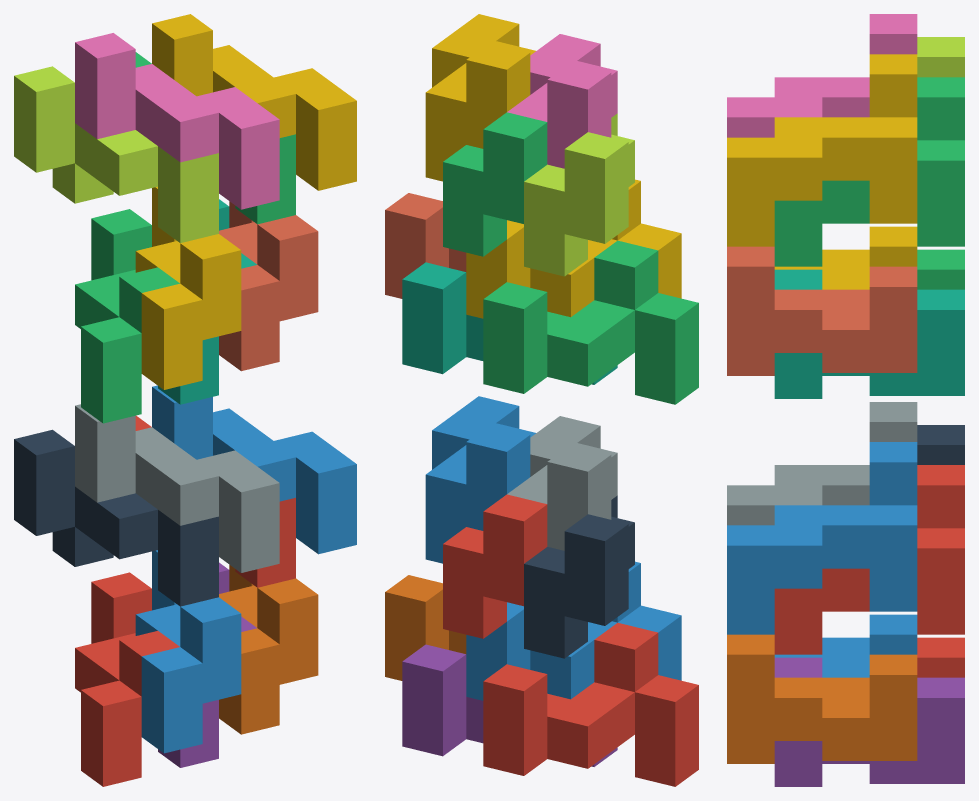
The model's file is tiling.obj.
3 views of the same model, side by side, from view 1: azimuth 30°, elevation 25°; view 2: azimuth 150°, elevation 25°; view 3: azimuth 270°, elevation 25° (orthographic). The views are drawn at different scales.
Visible parts, largest first — view 1: copy_2_domain_4, copy_2_domain_2, copy_2_domain_1, copy_2_domain_3, copy_2_domain_8, copy_2_domain_6, copy_1_domain_1, copy_1_domain_3, copy_1_domain_2, copy_1_domain_4, copy_1_domain_6, copy_1_domain_8 (+4 smaller); view 2: copy_1_domain_3, copy_1_domain_1, copy_2_domain_1, copy_2_domain_3, copy_2_domain_6, copy_2_domain_8, copy_2_domain_7, copy_2_domain_5, copy_1_domain_2, copy_1_domain_4, copy_2_domain_2, copy_2_domain_4 (+4 smaller); view 3: copy_2_domain_6, copy_2_domain_8, copy_1_domain_6, copy_1_domain_8, copy_2_domain_5, copy_2_domain_7, copy_1_domain_5, copy_1_domain_7, copy_2_domain_4, copy_2_domain_2, copy_1_domain_2, copy_1_domain_4 (+4 smaller).
Part boxes in pixels (left/top/right/bottom): copy_2_domain_4: left=75, top=33, right=279, bottom=209; copy_2_domain_2: left=75, top=404, right=279, bottom=572; copy_2_domain_1: left=14, top=429, right=218, bottom=606; copy_2_domain_3: left=14, top=66, right=218, bottom=242; copy_2_domain_8: left=152, top=14, right=356, bottom=190; copy_2_domain_6: left=152, top=385, right=356, bottom=554; copy_1_domain_1: left=75, top=572, right=179, bottom=786; copy_1_domain_3: left=75, top=209, right=179, bottom=423; copy_1_domain_2: left=135, top=550, right=241, bottom=753; copy_1_domain_4: left=135, top=186, right=241, bottom=389; copy_1_domain_6: left=219, top=565, right=318, bottom=734; copy_1_domain_8: left=219, top=201, right=318, bottom=371; copy_1_domain_3: left=483, top=240, right=698, bottom=404; copy_1_domain_1: left=483, top=623, right=698, bottom=786; copy_2_domain_1: left=524, top=495, right=634, bottom=658; copy_2_domain_3: left=524, top=113, right=634, bottom=276; copy_2_domain_6: left=425, top=396, right=535, bottom=563; copy_2_domain_8: left=425, top=14, right=535, bottom=181; copy_2_domain_7: left=443, top=112, right=547, bottom=256; copy_2_domain_5: left=443, top=494, right=547, bottom=638; copy_1_domain_2: left=466, top=561, right=681, bottom=700; copy_1_domain_4: left=466, top=179, right=681, bottom=318; copy_2_domain_2: left=507, top=416, right=617, bottom=550; copy_2_domain_4: left=507, top=34, right=617, bottom=168; copy_2_domain_6: left=727, top=442, right=917, bottom=631; copy_2_domain_8: left=727, top=54, right=917, bottom=243; copy_1_domain_6: left=727, top=634, right=917, bottom=763; copy_1_domain_8: left=727, top=246, right=917, bottom=375; copy_2_domain_5: left=774, top=465, right=964, bottom=654; copy_2_domain_7: left=774, top=77, right=964, bottom=266; copy_1_domain_5: left=774, top=657, right=964, bottom=786; copy_1_domain_7: left=774, top=269, right=964, bottom=398; copy_2_domain_4: left=727, top=14, right=917, bottom=137; copy_2_domain_2: left=727, top=402, right=917, bottom=525; copy_1_domain_2: left=727, top=614, right=917, bottom=677; copy_1_domain_4: left=727, top=226, right=917, bottom=289.
Size of the model in its own units: 6 by 17 by 5.
